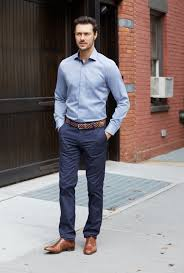F_belt: (60, 115, 114, 134)
F_dress pants: (53, 124, 111, 240)
F_shirt: (49, 47, 133, 136)
